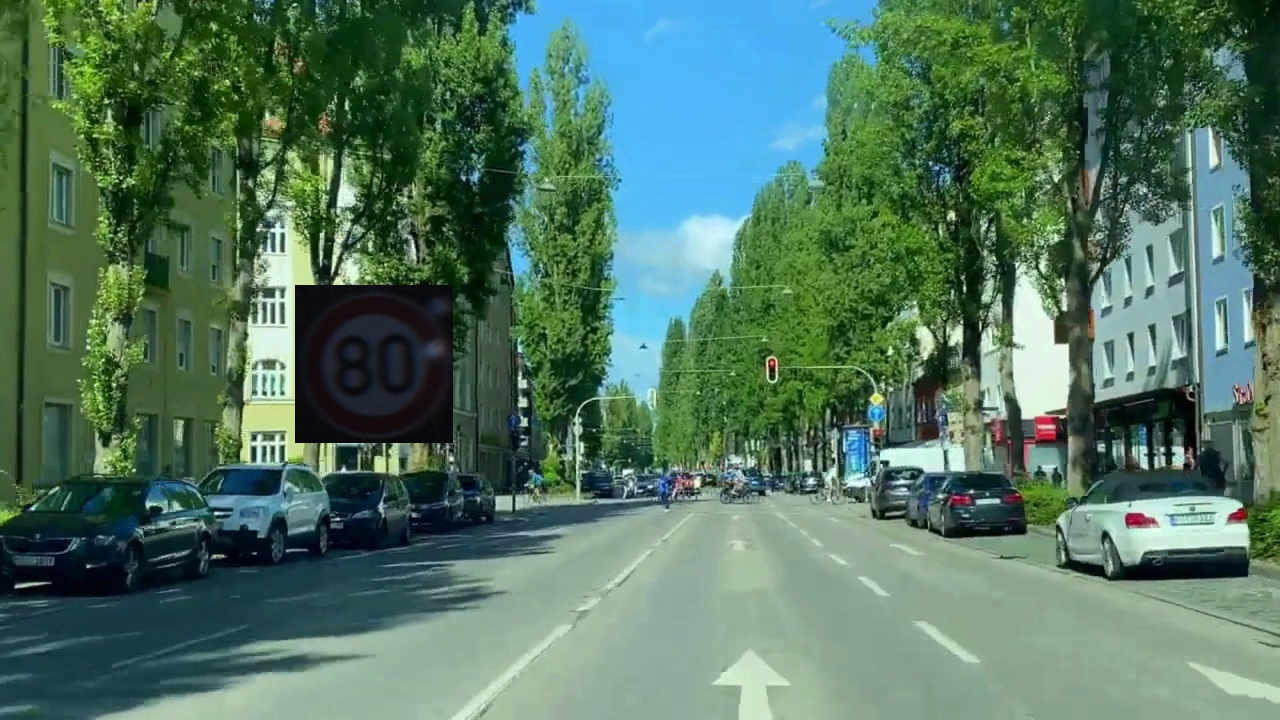Speed 80: (295, 285, 453, 443)
